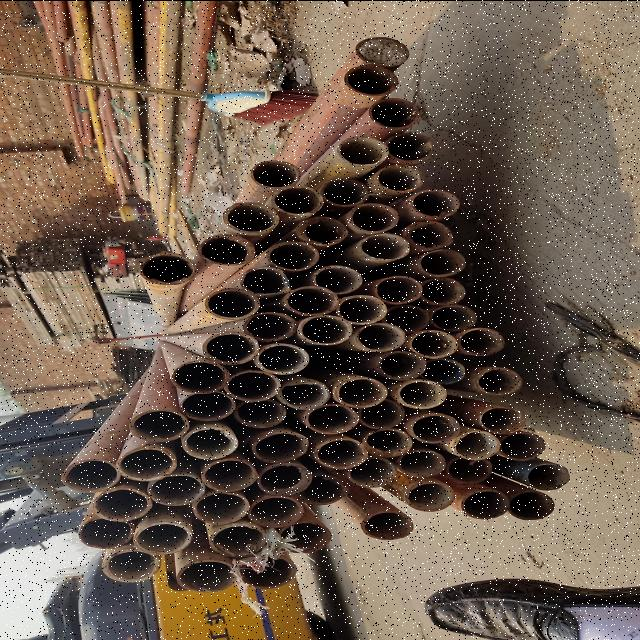pipe: (114, 445, 176, 480), (208, 522, 268, 558), (236, 553, 296, 588), (128, 407, 188, 441), (60, 457, 120, 491), (92, 486, 152, 520), (176, 558, 236, 592), (132, 520, 192, 554), (100, 548, 160, 582), (192, 491, 250, 524), (182, 424, 238, 458), (138, 251, 196, 283), (146, 473, 204, 505), (172, 359, 228, 392), (256, 462, 312, 495), (247, 494, 304, 526), (224, 369, 282, 400), (202, 332, 258, 364), (251, 342, 307, 374), (200, 458, 256, 490), (77, 516, 133, 548), (178, 390, 236, 420), (252, 432, 308, 462), (276, 522, 332, 552), (344, 64, 398, 95), (200, 233, 254, 264), (206, 287, 260, 318), (368, 96, 420, 128), (335, 375, 387, 407), (224, 202, 279, 232), (346, 454, 397, 486), (356, 36, 410, 66), (314, 437, 368, 467), (296, 473, 348, 504), (336, 134, 389, 164), (267, 240, 320, 270), (298, 314, 351, 344), (306, 403, 359, 433), (284, 284, 336, 314), (312, 264, 364, 294), (244, 310, 296, 340), (336, 294, 388, 324), (361, 510, 413, 540), (409, 412, 460, 442), (397, 378, 448, 408), (384, 131, 434, 161), (272, 184, 322, 214), (350, 202, 400, 232), (355, 322, 405, 352), (456, 326, 506, 356), (355, 398, 405, 428), (233, 398, 286, 426), (376, 350, 428, 378), (405, 481, 455, 510), (322, 176, 370, 206), (298, 214, 346, 244), (411, 188, 461, 216), (360, 232, 410, 260), (240, 266, 290, 294), (279, 380, 329, 408), (509, 490, 555, 520), (408, 329, 457, 357), (446, 454, 495, 482), (363, 428, 412, 456), (462, 489, 509, 518), (250, 159, 298, 187), (406, 220, 454, 248), (420, 248, 468, 276), (476, 366, 524, 394), (398, 449, 446, 477), (382, 304, 429, 332), (429, 303, 477, 330), (376, 274, 422, 302), (419, 276, 466, 303), (454, 431, 499, 459), (498, 432, 546, 458), (377, 163, 423, 190), (480, 406, 526, 433), (527, 462, 569, 490), (420, 357, 464, 383)
